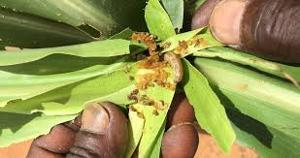fallarmy_worm: (161, 48, 190, 85)
